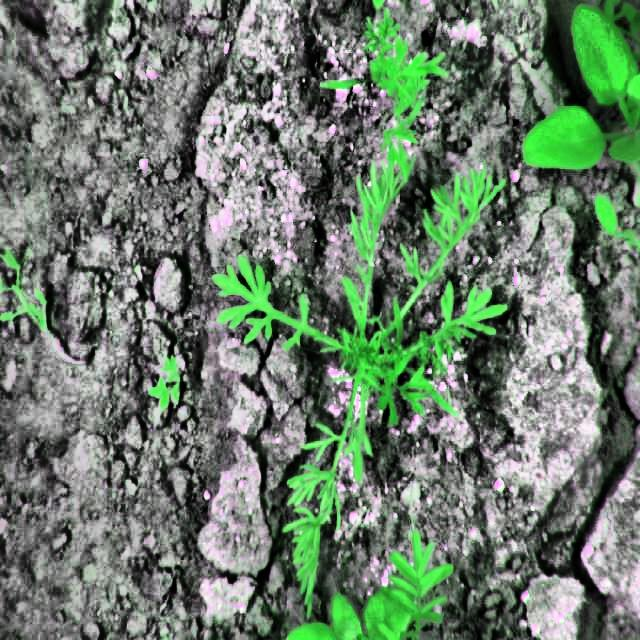Weeds: (522, 1, 640, 182), (277, 587, 429, 639)
undefined: (207, 6, 511, 618), (150, 351, 183, 406)
